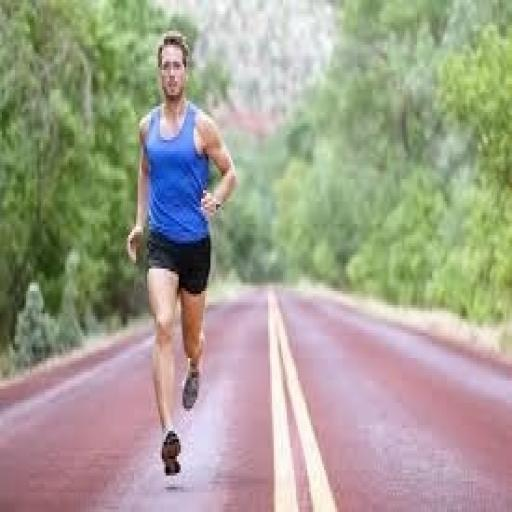running: (123, 28, 240, 478)
